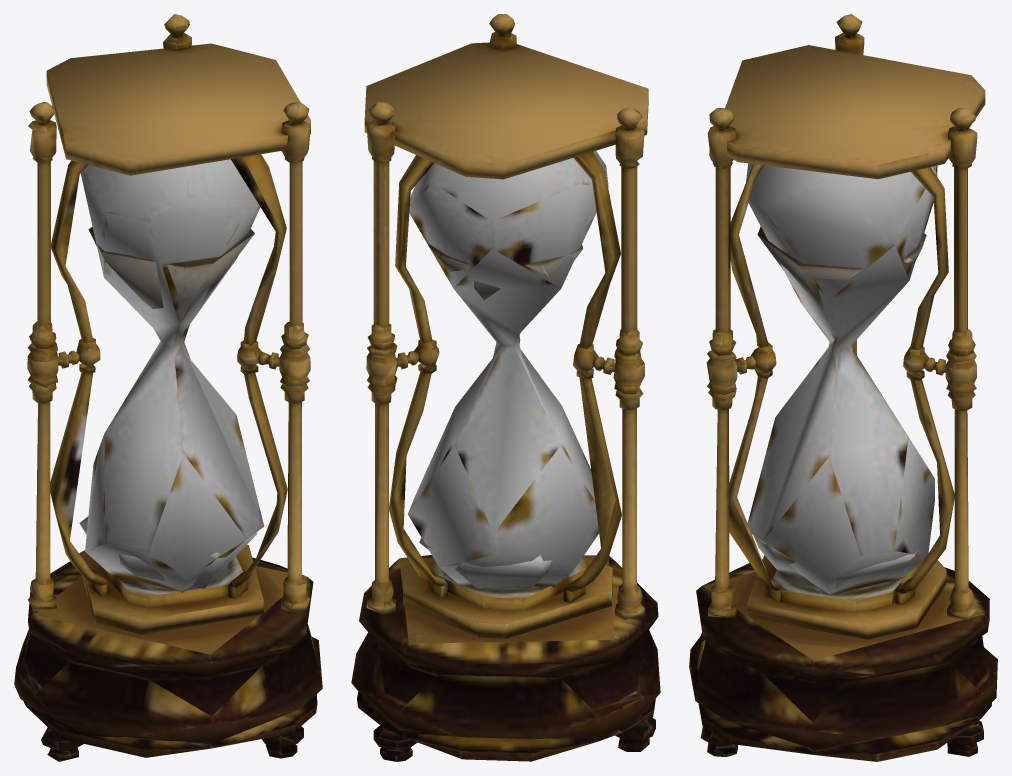
Rendered from hourglass.glb.
3 renders of one model, left to right at view 1: azimuth 30°, elevation 25°; view 2: azimuth 150°, elevation 25°; view 3: azimuth 270°, elevation 25°, orthographic.
Parts seen in each view (by area): view 1: tripo_node_7c196c57-b512-4dc3-8625-1d2dd54d8cf5; view 2: tripo_node_7c196c57-b512-4dc3-8625-1d2dd54d8cf5; view 3: tripo_node_7c196c57-b512-4dc3-8625-1d2dd54d8cf5.
Part boxes in pixels (x1,y1,x2,y2): tripo_node_7c196c57-b512-4dc3-8625-1d2dd54d8cf5: [14, 14, 322, 761]; tripo_node_7c196c57-b512-4dc3-8625-1d2dd54d8cf5: [351, 14, 660, 761]; tripo_node_7c196c57-b512-4dc3-8625-1d2dd54d8cf5: [689, 14, 997, 761].
Size of the model in its own units: 0.437 by 0.9985 by 0.4302.
Materials: 1 (1 with a texture image).
